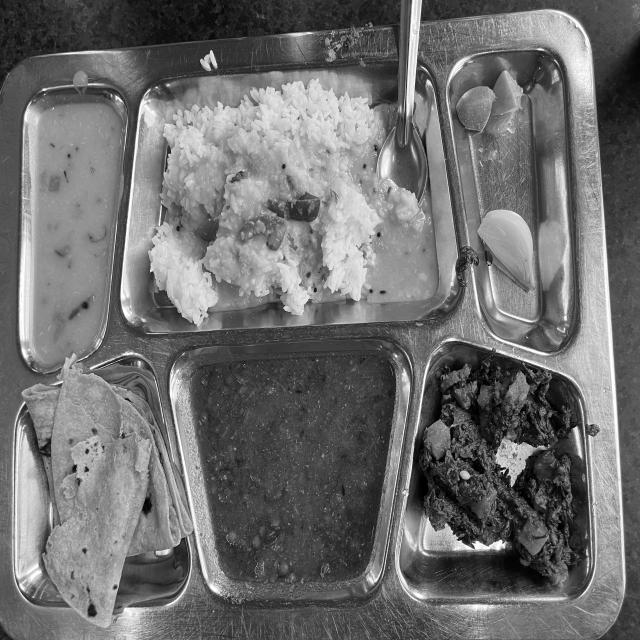Full-Plate: (18, 61, 606, 615)
